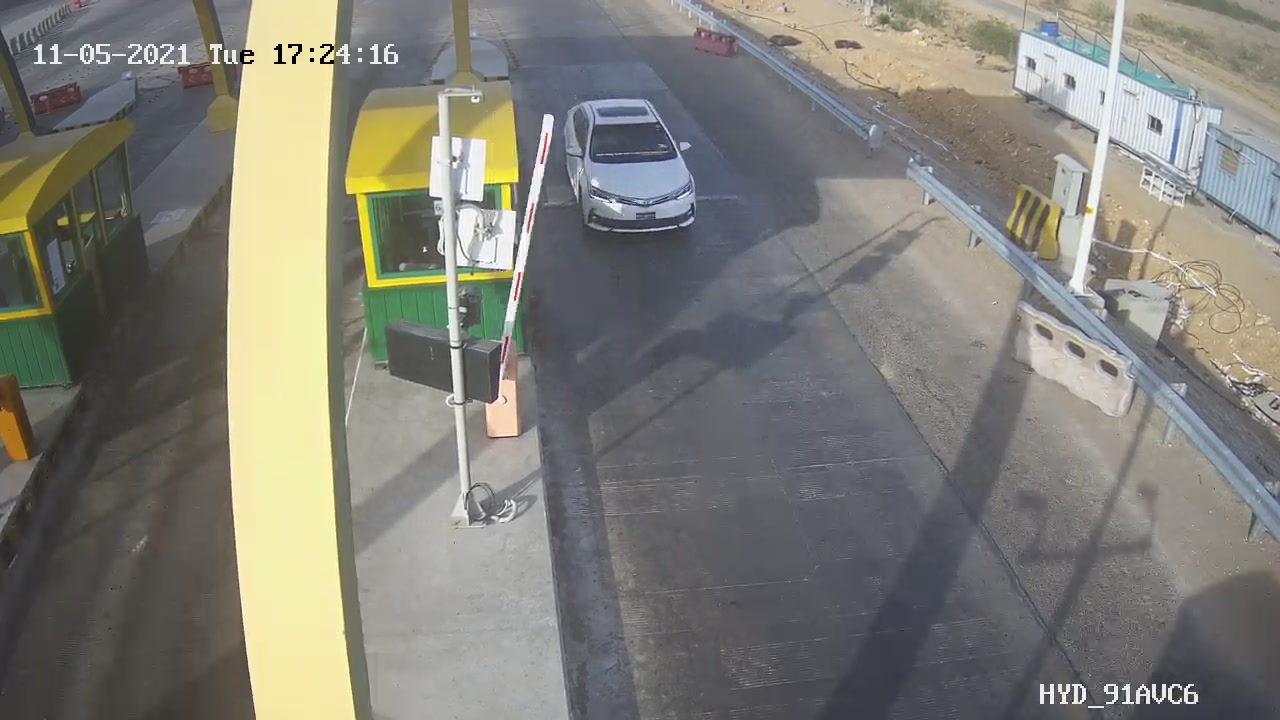F1: (548, 83, 713, 252)
